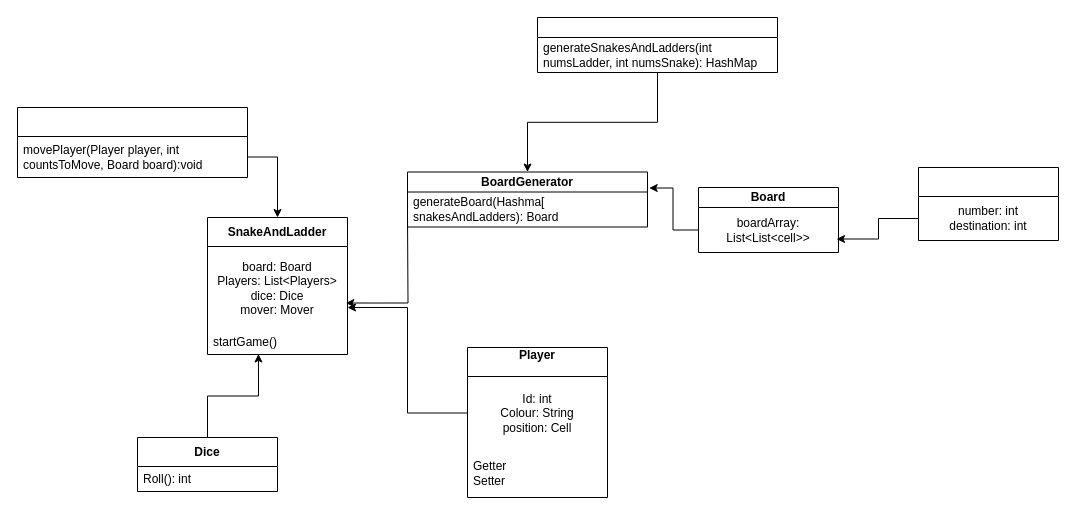
This 1076x515 diagram has some shape labels left out. Here are the shapes that lost their labels. From the top down, the box of each, then its label:
(536, 16, 778, 72): SnakesAndLaddersGenerator
(16, 106, 248, 178): Mover
(918, 166, 1058, 240): cell
